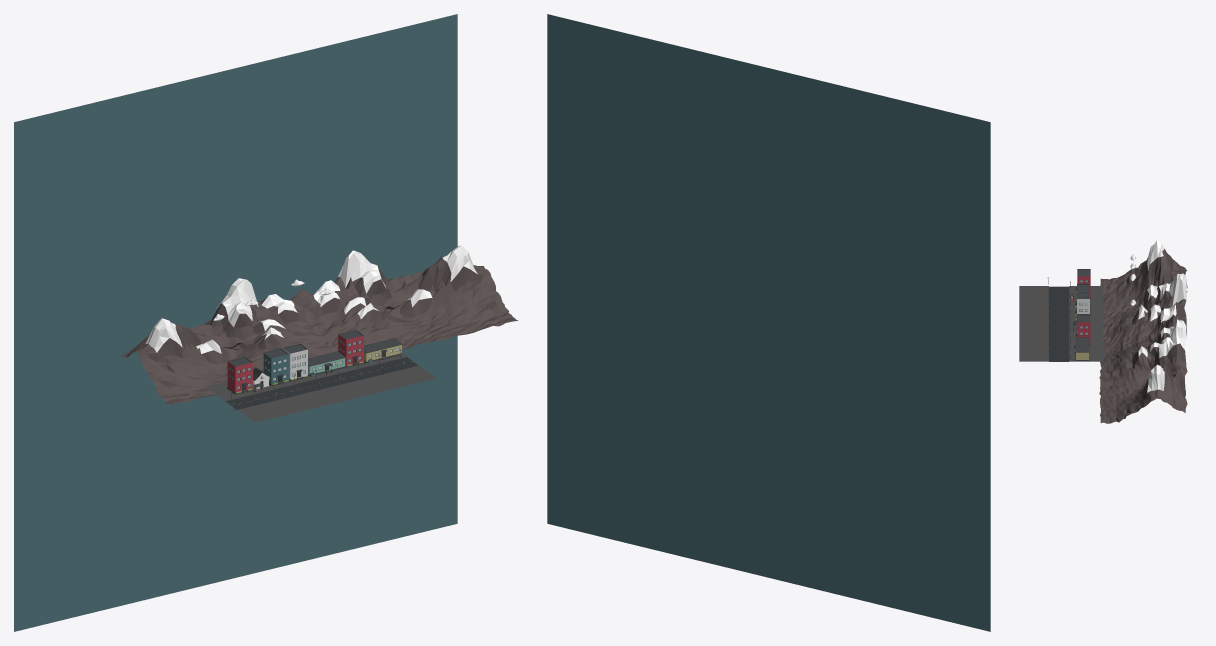
File: CenaCidade2.FBX
3 renders of one model, left to right at view 1: azimuth 30°, elevation 25°; view 2: azimuth 150°, elevation 25°; view 3: azimuth 270°, elevation 25°, orthographic. The views are drawn at different scales.
Parts seen in each view (by area): view 1: CenaCidade2; view 2: CenaCidade2; view 3: CenaCidade2.
Boxes of the visible parts, x1,y1,x2,y2 form: CenaCidade2: (14, 14, 517, 631); CenaCidade2: (547, 14, 990, 631); CenaCidade2: (1019, 240, 1188, 423).
Size of the model in its own units: 6289 by 6851 by 2613.
